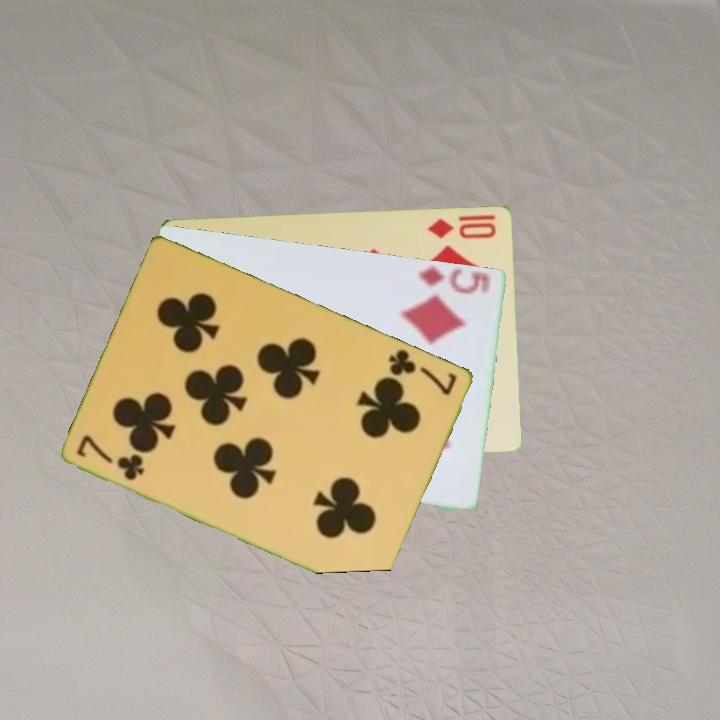10d: (425, 211, 499, 241)
5d: (415, 262, 495, 297)
7c: (385, 345, 460, 398), (73, 431, 148, 483)
